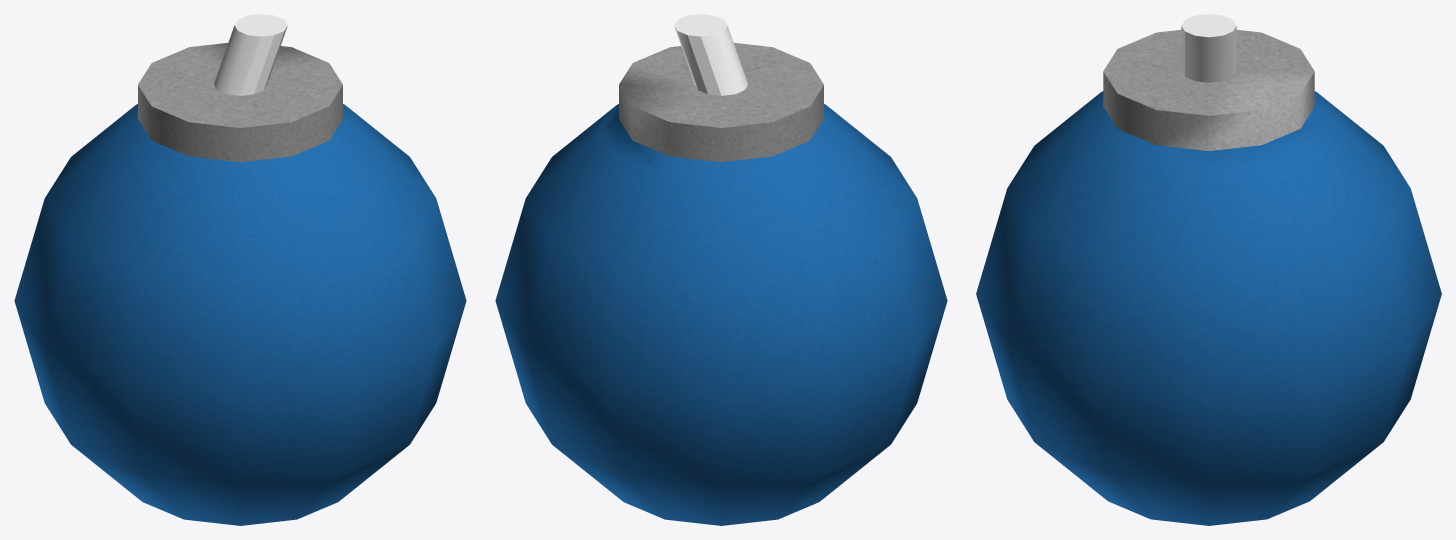
The model's file is bombMesh.fbx.
The picture shows the model from 3 angles, left to right: view 1: azimuth 30°, elevation 25°; view 2: azimuth 150°, elevation 25°; view 3: azimuth 270°, elevation 25°; orthographic projection. The views are drawn at different scales.
Parts seen in each view (by area): view 1: Sphere01; view 2: Sphere01; view 3: Sphere01.
Part boxes in pixels (left/top/right/bottom): Sphere01: left=14, top=14, right=466, bottom=525; Sphere01: left=495, top=14, right=947, bottom=525; Sphere01: left=976, top=14, right=1441, bottom=525.
Bounding box in the file's own units: 50 × 58 × 50.
1 material, 1 textured.
